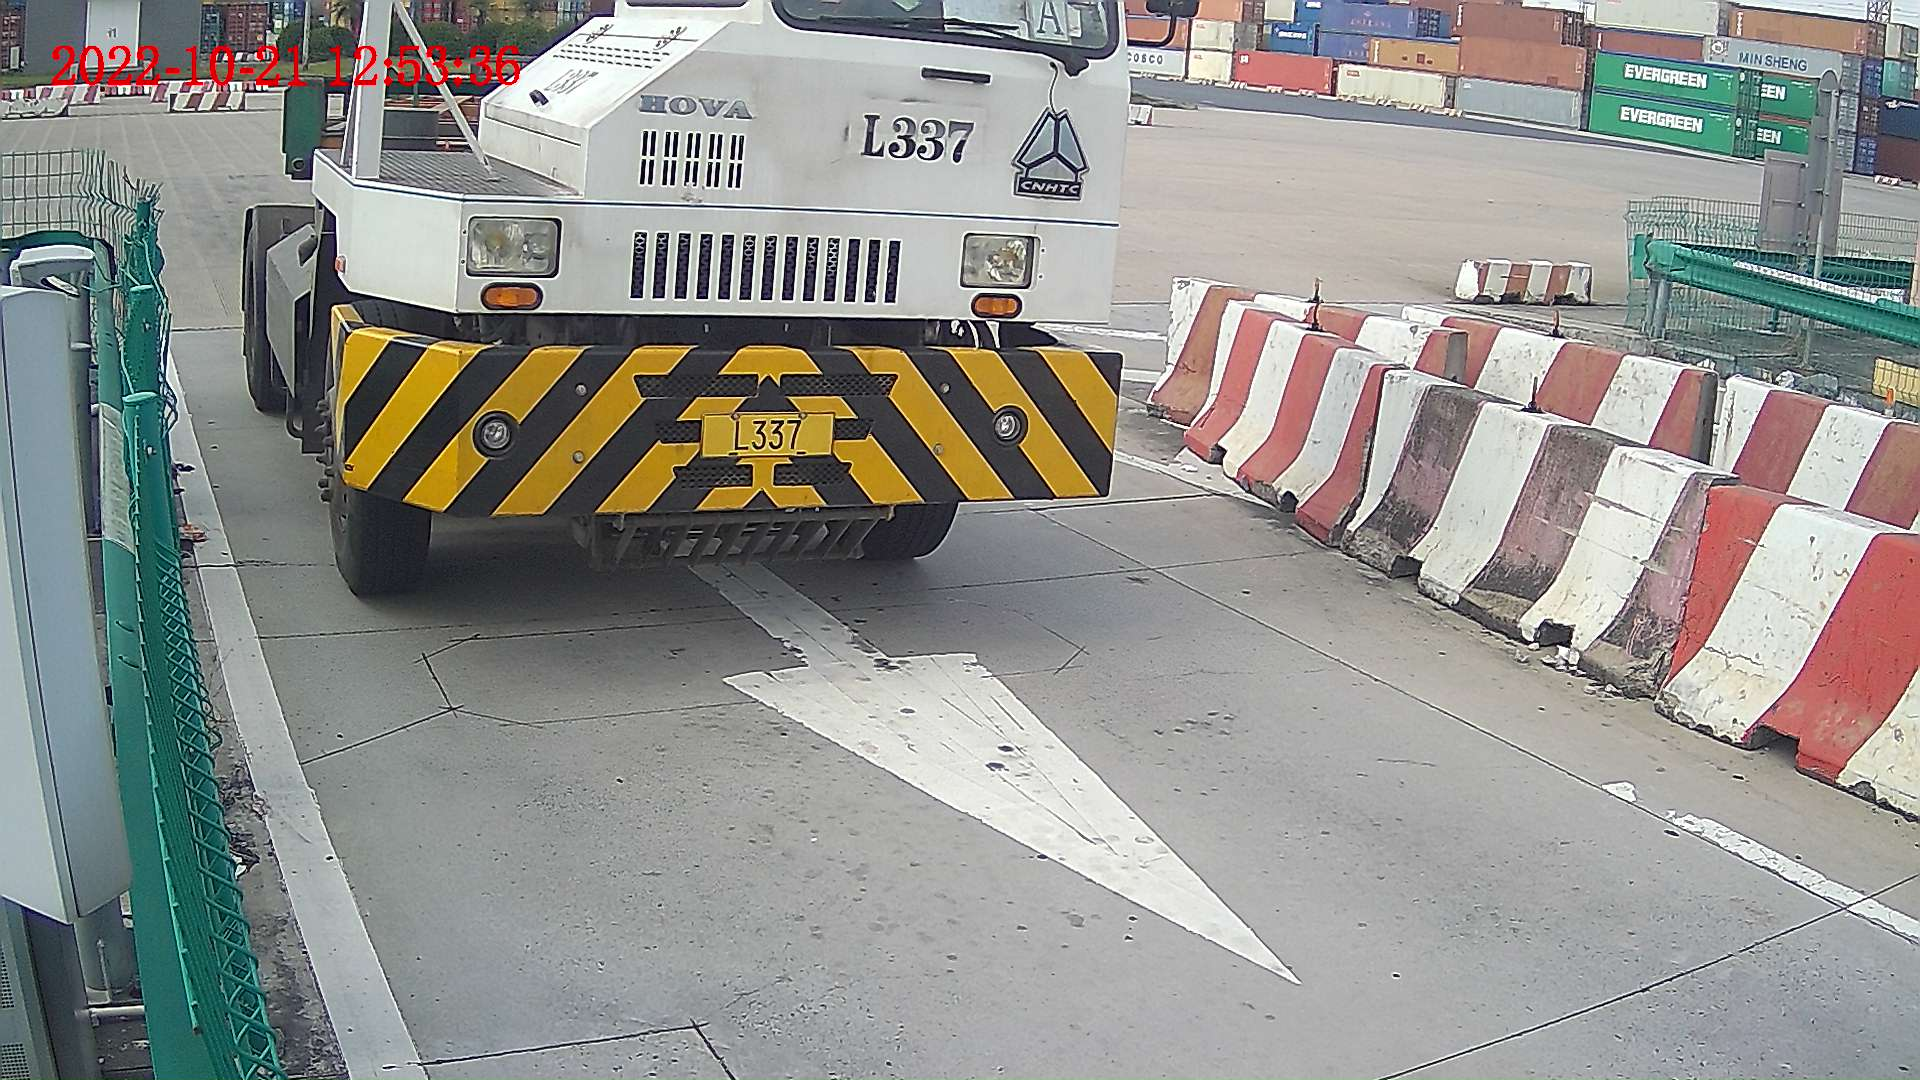head: (282, 1, 1131, 594)
plate: (709, 409, 826, 453)
